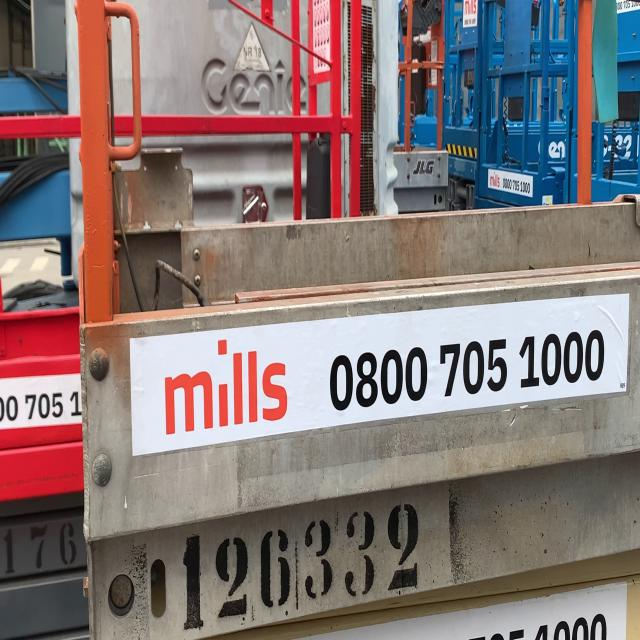Adesivo Longo: (130, 286, 631, 468)
